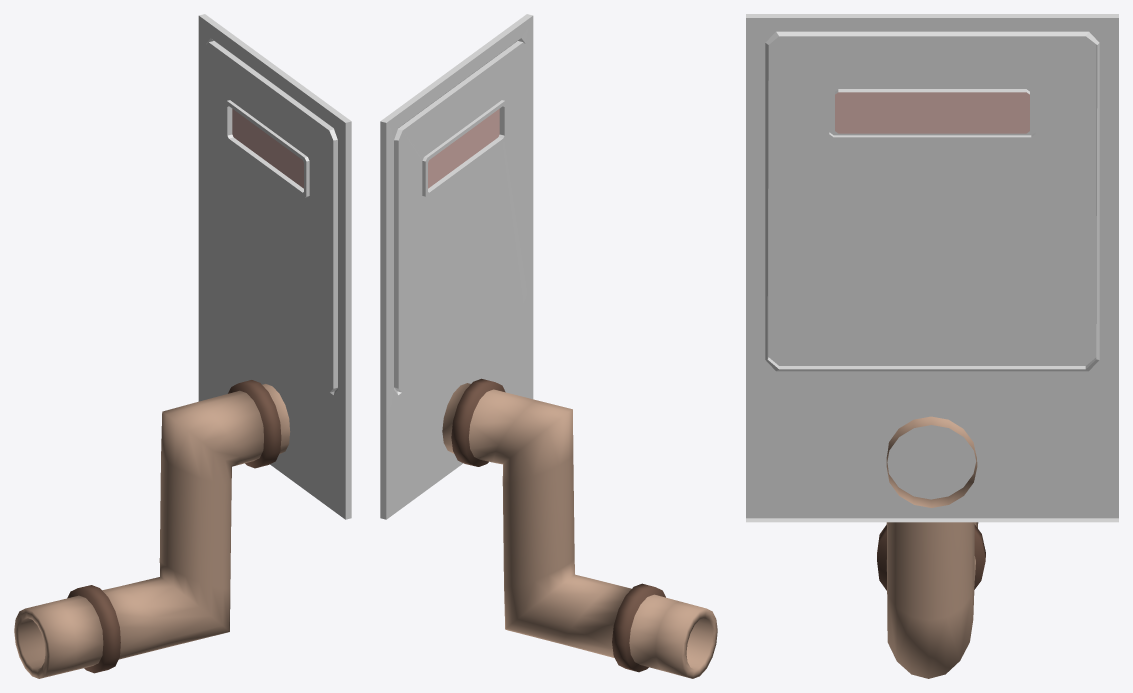
File: PipeEnd.fbx
3 views of the same model, side by side, from view 1: azimuth 30°, elevation 25°; view 2: azimuth 150°, elevation 25°; view 3: azimuth 270°, elevation 25° (orthographic). The views are drawn at different scales.
Visible parts, largest first — view 1: Plane, PipeEnd; view 2: Plane, PipeEnd; view 3: Plane, PipeEnd.
Part boxes in pixels (x1,y1,x2,y2): Plane: (198,14,351,519); PipeEnd: (14,380,290,678); Plane: (380,14,533,519); PipeEnd: (442,378,717,678); Plane: (746,14,1118,522); PipeEnd: (877,416,985,678).
Size of the model in its own units: 99.89 by 209 by 100.
